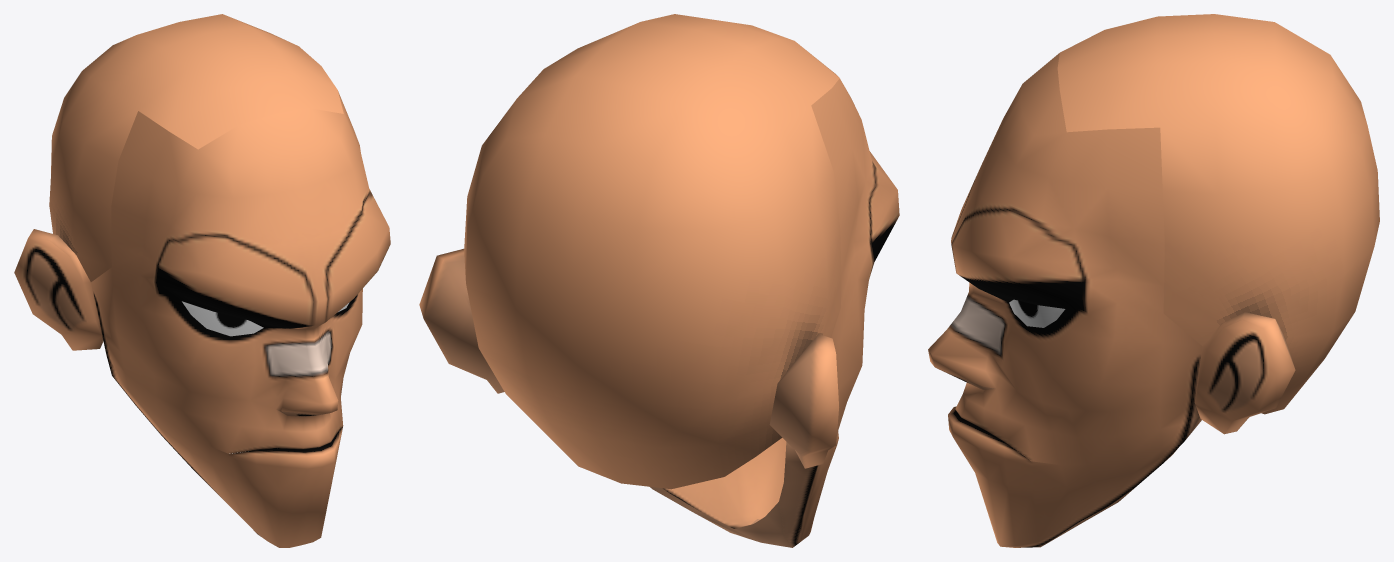
The model's file is mt01_head_1.FBX.
3 renders of one model, left to right at view 1: azimuth 30°, elevation 25°; view 2: azimuth 150°, elevation 25°; view 3: azimuth 270°, elevation 25°, orthographic. The views are drawn at different scales.
Visible parts, largest first — view 1: mt01_head_1_sc1_png, mt01_headskin_1_sc1_png; view 2: mt01_headskin_1_sc1_png, mt01_head_1_sc1_png; view 3: mt01_head_1_sc1_png, mt01_headskin_1_sc1_png.
Boxes of the visible parts, x1,y1,x2,y2 form: mt01_head_1_sc1_png: (14,91,390,547); mt01_headskin_1_sc1_png: (49,14,343,281); mt01_headskin_1_sc1_png: (464,14,841,489); mt01_head_1_sc1_png: (419,44,899,547); mt01_head_1_sc1_png: (928,53,1295,547); mt01_headskin_1_sc1_png: (1057,14,1379,414).
Bounding box in the file's own units: 19.73 × 25.37 × 20.63.
Materials: 2 (2 with a texture image).
